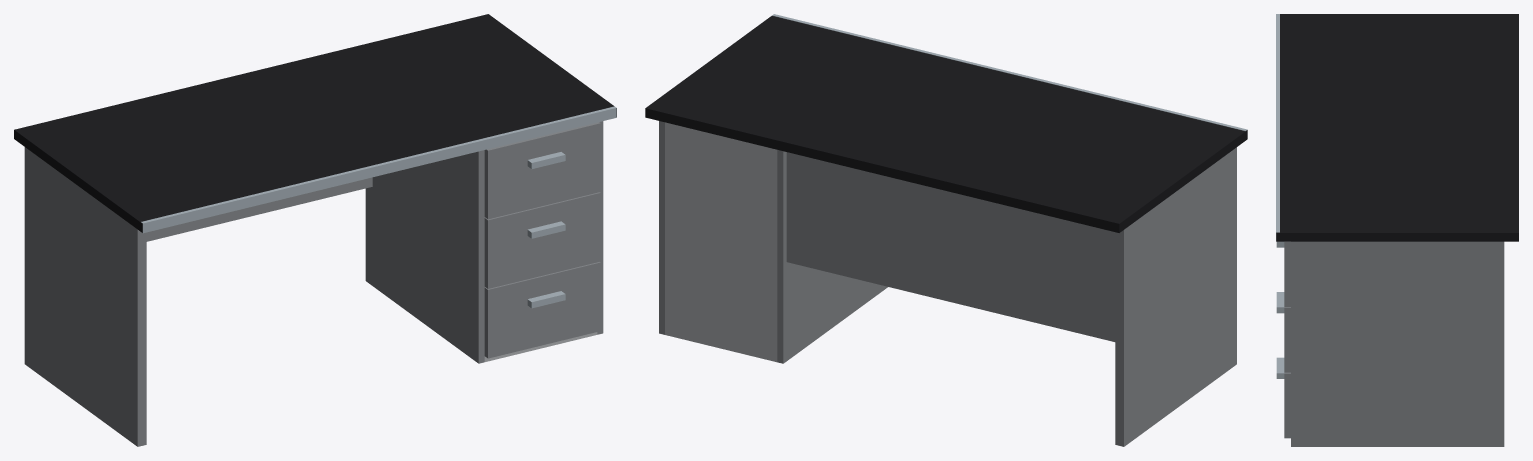
File: GO_Desk_Steel_01.glb
The picture shows the model from 3 angles, left to right: view 1: azimuth 30°, elevation 25°; view 2: azimuth 150°, elevation 25°; view 3: azimuth 270°, elevation 25°; orthographic projection. The views are drawn at different scales.
Visible parts, largest first — view 1: GO_Desk_Steel_01, Drawer3, Drawer1, Drawer2; view 2: GO_Desk_Steel_01; view 3: GO_Desk_Steel_01, Drawer1, Drawer2, Drawer3.
Part boxes in pixels (x1,y1,x2,y2): GO_Desk_Steel_01: [14, 14, 616, 446]; Drawer3: [484, 122, 600, 219]; Drawer1: [484, 262, 600, 358]; Drawer2: [484, 192, 600, 288]; GO_Desk_Steel_01: [645, 14, 1247, 446]; GO_Desk_Steel_01: [1276, 14, 1518, 446]; Drawer1: [1276, 357, 1290, 438]; Drawer2: [1276, 292, 1290, 372]; Drawer3: [1276, 241, 1290, 306].
Size of the model in its own units: 1.6 by 0.741 by 0.751.
1 material, 1 textured.
